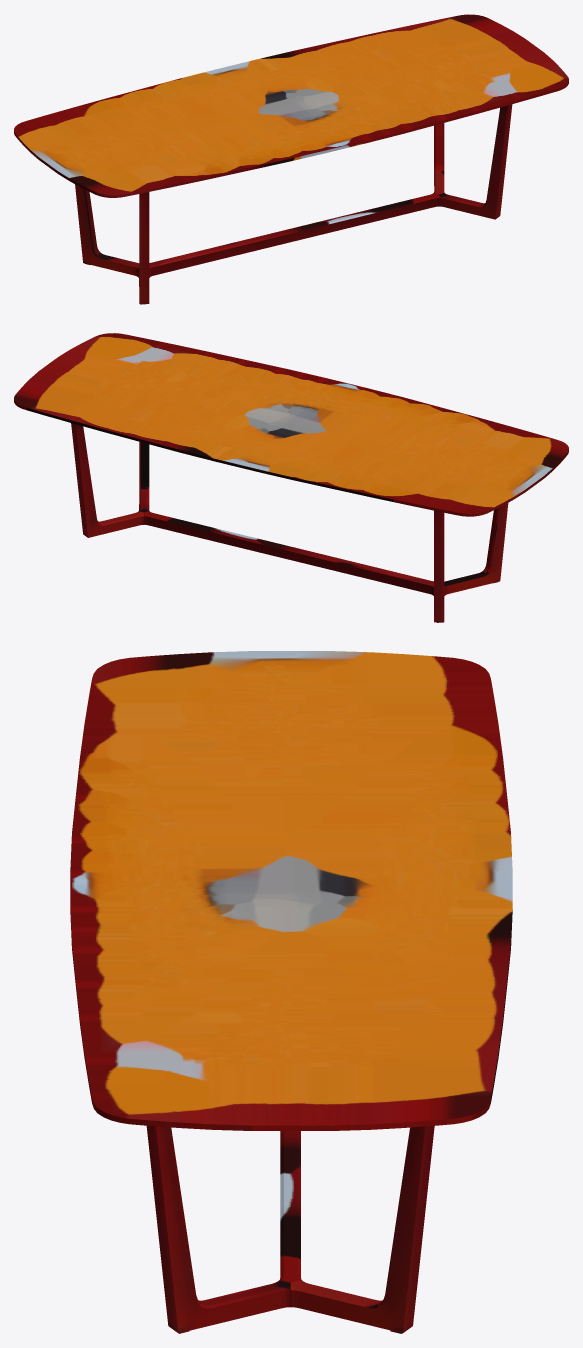
The model's file is edited_mesh.glb.
3 renders of one model, top to bottom at view 1: azimuth 30°, elevation 25°; view 2: azimuth 150°, elevation 25°; view 3: azimuth 270°, elevation 25°, orthographic. The views are drawn at different scales.
Parts seen in each view (by area): view 1: normalized_model.obj; view 2: normalized_model.obj; view 3: normalized_model.obj.
Boxes of the visible parts, box(x1,y1,x2,y2) form: normalized_model.obj: box(14, 14, 568, 304); normalized_model.obj: box(14, 333, 568, 622); normalized_model.obj: box(70, 651, 512, 1333).
Bounding box in the file's own units: 2 × 0.5321 × 0.7873.
1 material, 1 textured.
